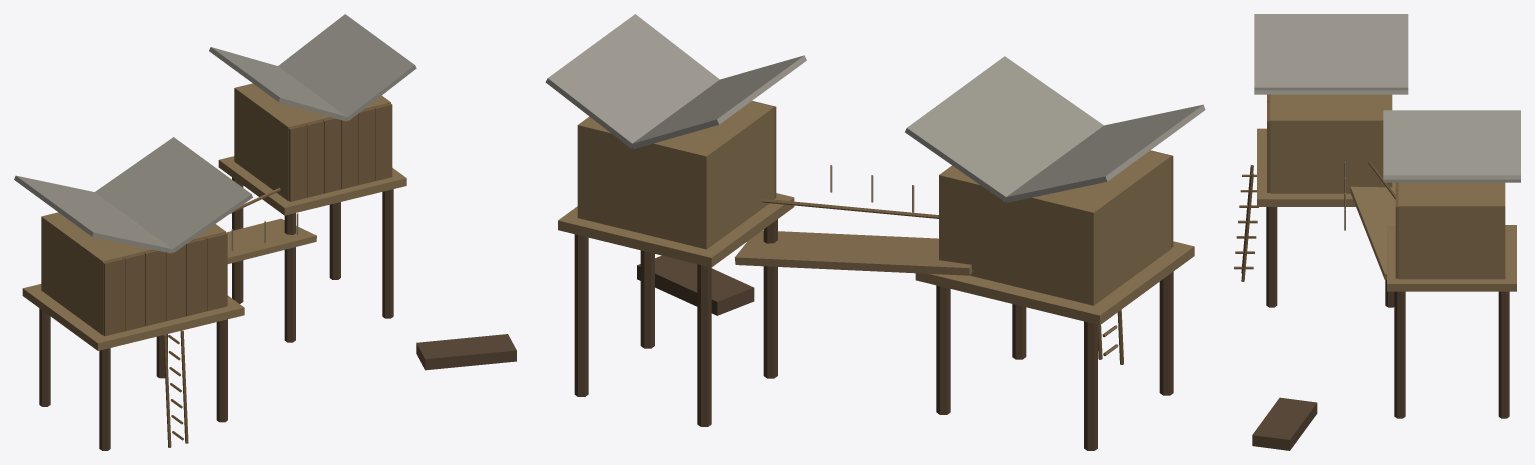
The model's file is S_StiltCluster.glb.
3 renders of one model, left to right at view 1: azimuth 30°, elevation 25°; view 2: azimuth 150°, elevation 25°; view 3: azimuth 270°, elevation 25°, orthographic. The views are drawn at different scales.
Visible parts, largest first — view 1: S_StiltCluster; view 2: S_StiltCluster; view 3: S_StiltCluster.
Boxes of the visible parts, x1,y1,x2,y2 form: S_StiltCluster: (14,14,516,450); S_StiltCluster: (545,14,1205,450); S_StiltCluster: (1234,14,1520,450).
Bounding box in the file's own units: 10.66 × 6.02 × 6.17.
